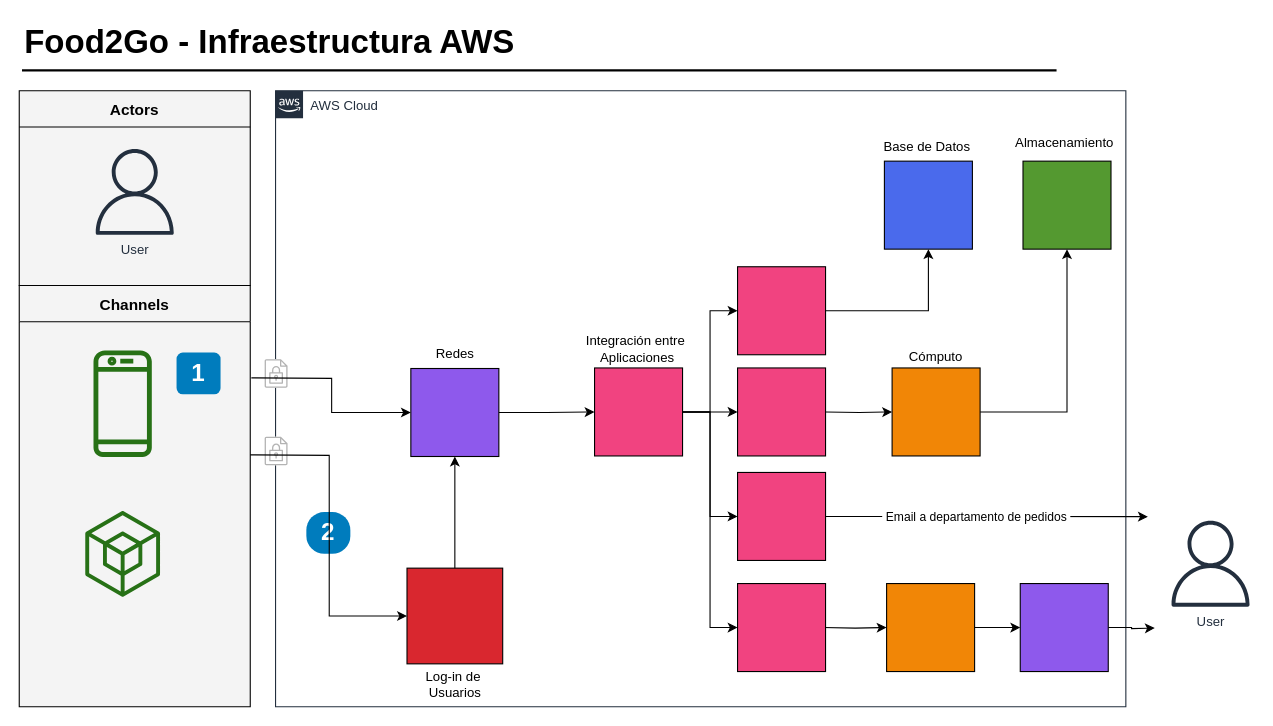
This 1273x726 diagram has some shape labels left out. Each missing label, with the centre of its shape:
API: point (122, 553)
Mobile / Web: point (122, 403)
